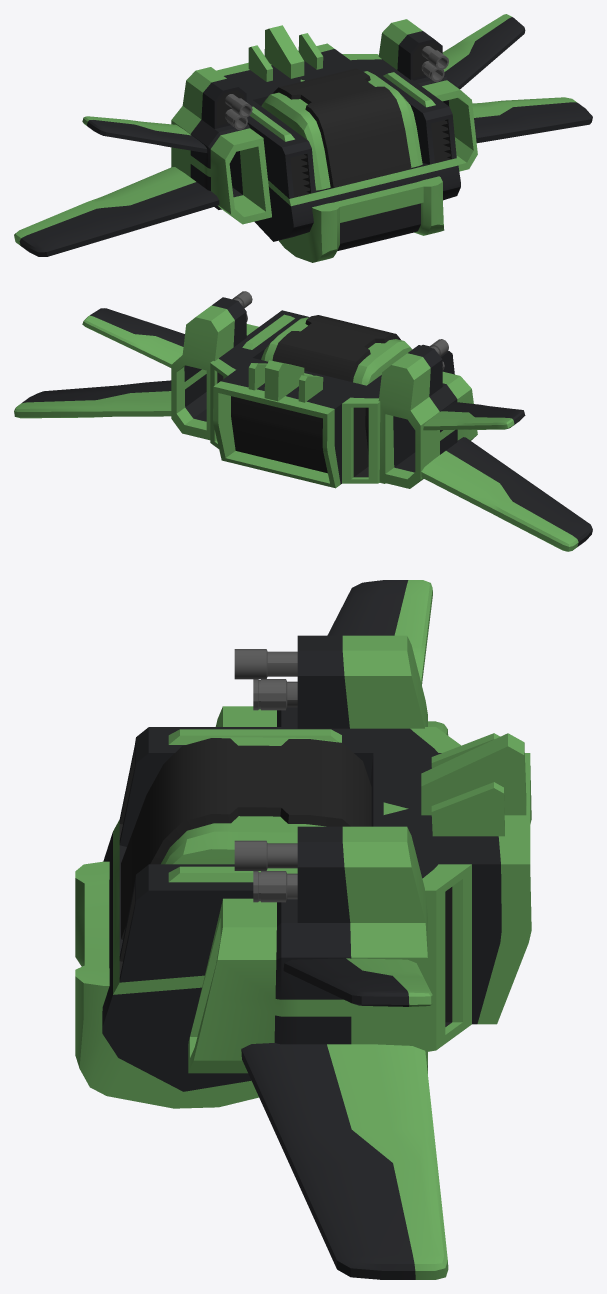
The model's file is SpaceshipC_3.glb.
The picture shows the model from 3 angles, top to bottom: view 1: azimuth 30°, elevation 25°; view 2: azimuth 150°, elevation 25°; view 3: azimuth 270°, elevation 25°; orthographic projection. The views are drawn at different scales.
Parts seen in each view (by area): view 1: Spaceship_FinnTheFrog; view 2: Spaceship_FinnTheFrog; view 3: Spaceship_FinnTheFrog.
Part boxes in pixels (box(x1,y1,x2,y2)): Spaceship_FinnTheFrog: box(14, 14, 592, 262); Spaceship_FinnTheFrog: box(14, 291, 592, 551); Spaceship_FinnTheFrog: box(75, 580, 531, 1279).
Size of the model in its own units: 11.62 by 3.06 by 4.11.
1 material, 1 textured.
